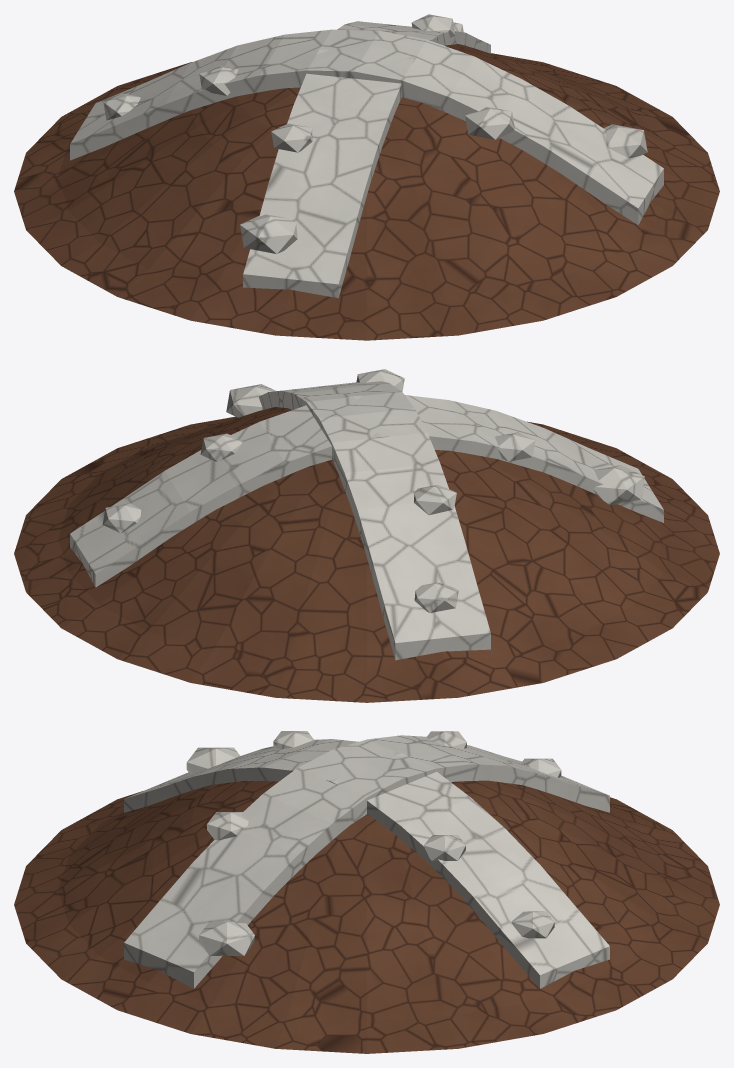
The model's file is 보물표시.fbx.
3 views of the same model, one above another, from view 1: azimuth 30°, elevation 25°; view 2: azimuth 150°, elevation 25°; view 3: azimuth 270°, elevation 25° (orthographic).
Visible parts, largest first — view 1: 보물표시; view 2: 보물표시; view 3: 보물표시.
Boxes of the visible parts, x1=… form: 보물표시: x1=14, y1=14, x2=719, y2=340; 보물표시: x1=14, y1=369, x2=719, y2=702; 보물표시: x1=14, y1=731, x2=719, y2=1053.
Bounding box in the file's own units: 600 × 132 × 600.
2 materials, 2 textured.
